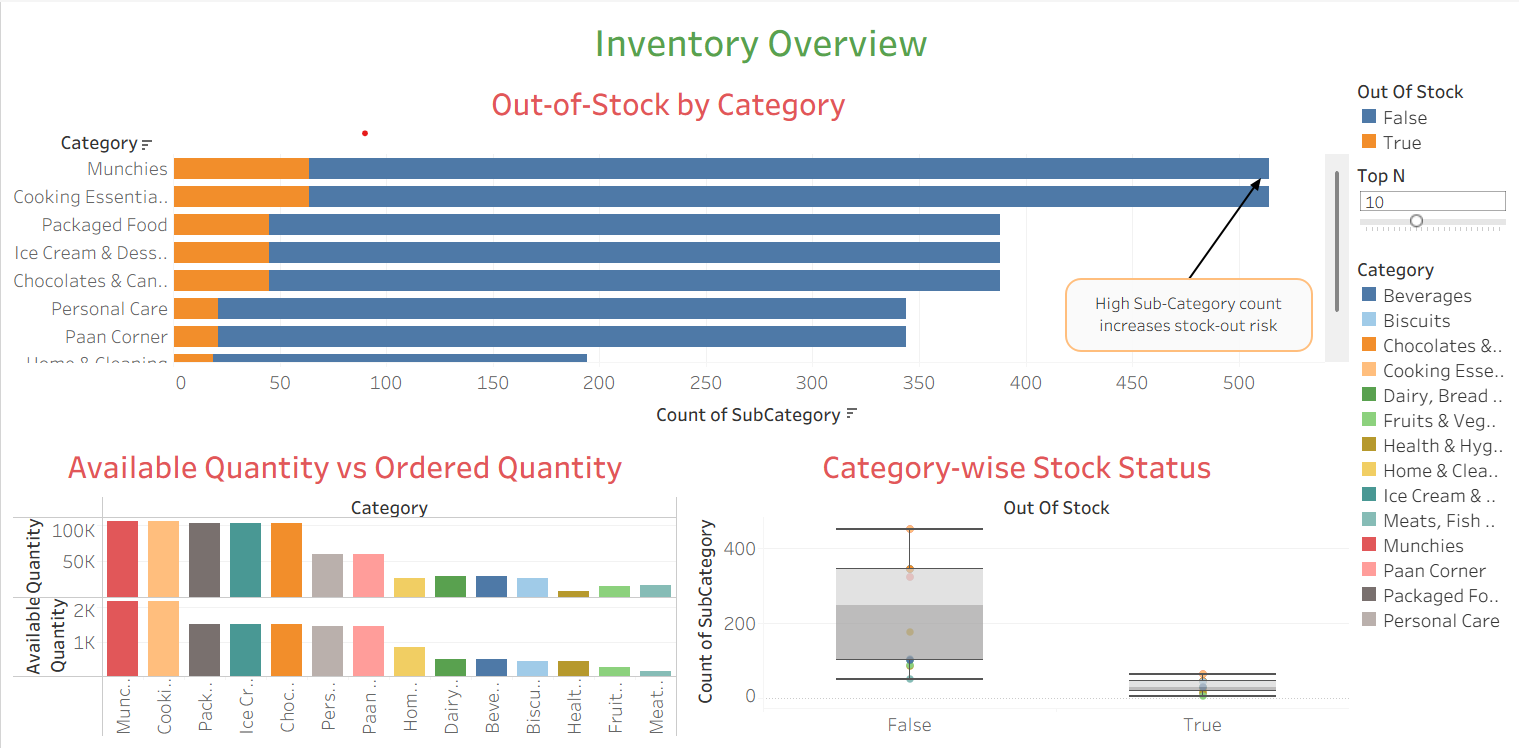

The dashboard page shown, as its layout file describes it:
{"tool":"tableau","page":{"name":"Dashboard 1","canvas":[1000,1000],"units":"permille","ordinal":0},"visuals":[{"type":"text","box":[5.3,10.7,989.5,85.7]},{"type":"worksheet","title":"Sheet 1","mark":"Automatic","rows":["Category"],"cols":["name"],"box":[5.3,96.4,884.2,485.5]},{"type":"legend","title":"Sheet 1","param":"[federated.0m5cgn01dddmoq1el1z6h03l7zhx].[none:outOfStock:nk]","box":[889.5,96.4,105.3,112.5]},{"type":"parameter","param":"[Parameters].[Parameter 1]","box":[889.5,208.8,105.3,125.8]},{"type":"legend","title":"Sheet 4","param":"[federated.0m5cgn01dddmoq1el1z6h03l7zhx].[none:Category:nk]","box":[889.5,334.7,105.3,514.1]},{"type":"worksheet","title":"Sheet 3","mark":"Automatic","rows":["quantity","availableQuantity"],"cols":["Category"],"box":[5.3,581.9,442.1,407.4]},{"type":"worksheet","title":"Sheet 4","mark":"Circle","rows":["name"],"cols":["outOfStock"],"box":[447.4,581.9,442.1,407.4]}]}

Visuals, with their boxes on the dashboard's canvas, which has no fixed pixel size, in thousandths of its width and height (x1, y1, x2, y2). These are canvas units, not pixel positions in the 1519x748 screenshot, which may show the page scaled, cropped or inside an application window:
text: {"x1": 5, "y1": 11, "x2": 995, "y2": 96}
"Sheet 1" worksheet: {"x1": 5, "y1": 96, "x2": 890, "y2": 582}
"Sheet 1" legend: {"x1": 890, "y1": 96, "x2": 995, "y2": 209}
parameter: {"x1": 890, "y1": 209, "x2": 995, "y2": 335}
"Sheet 4" legend: {"x1": 890, "y1": 335, "x2": 995, "y2": 849}
"Sheet 3" worksheet: {"x1": 5, "y1": 582, "x2": 447, "y2": 989}
"Sheet 4" worksheet (Circle marks): {"x1": 447, "y1": 582, "x2": 890, "y2": 989}
